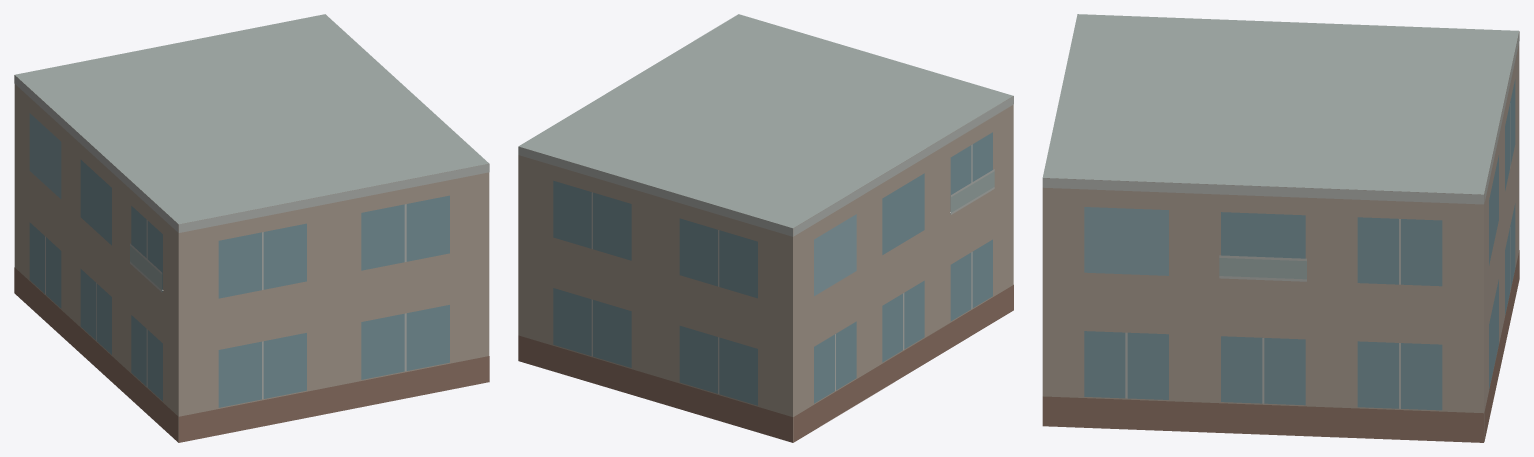
Rendered from survey-upis-32695692.glb.
3 views of the same model, side by side, from view 1: azimuth 30°, elevation 25°; view 2: azimuth 150°, elevation 25°; view 3: azimuth 270°, elevation 25° (orthographic). The views are drawn at different scales.
Parts seen in each view (by area): view 1: survey-upis-32695692.tmp; view 2: survey-upis-32695692.tmp; view 3: survey-upis-32695692.tmp.
Part boxes in pixels (x1,y1,x2,y2): survey-upis-32695692.tmp: (14,14,489,442); survey-upis-32695692.tmp: (518,14,1013,442); survey-upis-32695692.tmp: (1042,14,1519,442).
Size of the model in its own units: 9.52 by 6.1 by 10.63.
